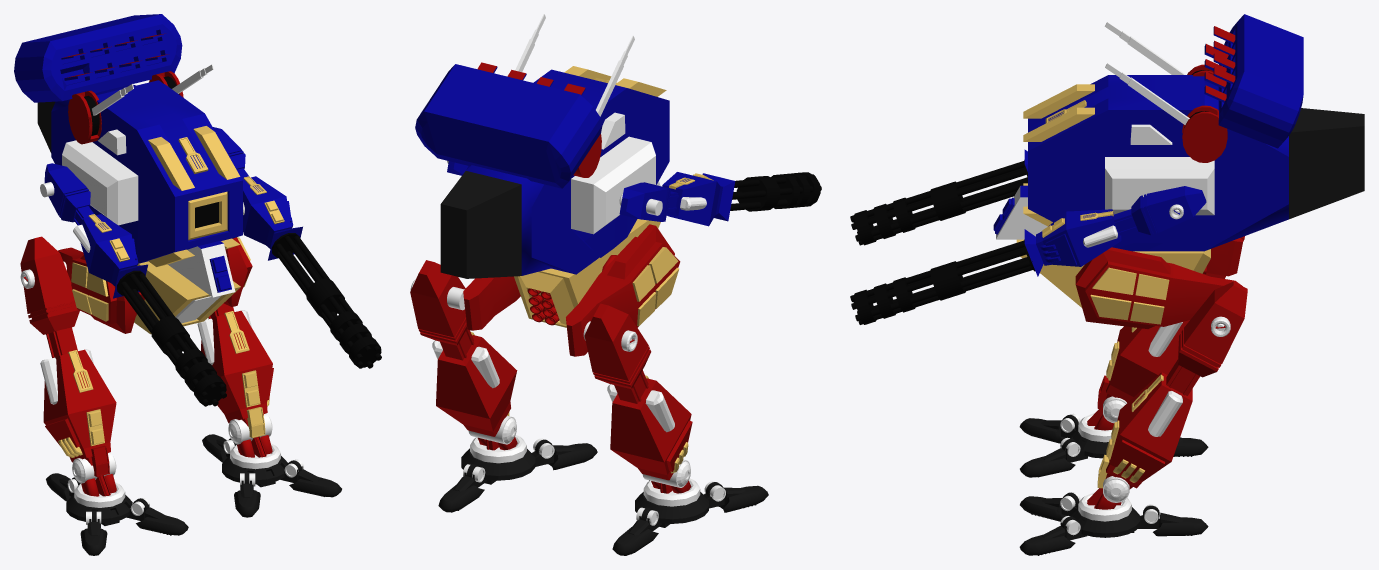
File: ccc.fbx
3 renders of one model, left to right at view 1: azimuth 30°, elevation 25°; view 2: azimuth 150°, elevation 25°; view 3: azimuth 270°, elevation 25°, orthographic. The views are drawn at different scales.
Parts seen in each view (by area): view 1: Box001, Box513, Box501, barrel_left001, barrel_left002, Box519, Box491, Box530, Box505, Cylinder002, Box500, Cylinder108 (+21 smaller); view 2: Box001, Box513, Box501, Box491, Box500, Box519, Box505, barrel_left001, Box504, Cylinder132, Cylinder108, Cylinder002 (+12 smaller); view 3: Box001, Box513, Box491, Box530, Box504, barrel_left002, barrel_left001, Box501, Cylinder003, Box505, Cylinder132, Box500 (+11 smaller).
Boxes of the visible parts, left/top/right/bottom form: Box001: left=37, top=80, right=242, bottom=297; Box513: left=14, top=14, right=182, bottom=102; Box501: left=20, top=236, right=116, bottom=465; barrel_left001: left=117, top=270, right=226, bottom=406; barrel_left002: left=271, top=233, right=381, bottom=368; Box519: left=44, top=163, right=147, bottom=298; Box491: left=201, top=303, right=273, bottom=426; Box530: left=213, top=127, right=302, bottom=260; Box505: left=134, top=261, right=240, bottom=334; Cylinder002: left=68, top=84, right=133, bottom=144; Box500: left=58, top=247, right=143, bottom=333; Cylinder108: left=66, top=494, right=132, bottom=523; Box001: left=440, top=66, right=669, bottom=278; Box513: left=415, top=62, right=602, bottom=188; Box501: left=584, top=303, right=692, bottom=480; Box491: left=410, top=260, right=517, bottom=436; Box500: left=566, top=224, right=680, bottom=356; Box519: left=619, top=172, right=735, bottom=226; Box505: left=514, top=219, right=660, bottom=327; barrel_left001: left=730, top=172, right=821, bottom=211; Box504: left=463, top=276, right=520, bottom=330; Cylinder132: left=461, top=448, right=535, bottom=480; Cylinder108: left=635, top=492, right=708, bottom=523; Cylinder002: left=573, top=35, right=634, bottom=177; Box001: left=996, top=75, right=1364, bottom=251; Box513: left=1204, top=14, right=1303, bottom=148; Box491: left=1105, top=281, right=1247, bottom=489; Box530: left=1024, top=186, right=1206, bottom=276; Box504: left=1075, top=247, right=1242, bottom=328; barrel_left002: left=850, top=239, right=1035, bottom=324; barrel_left001: left=850, top=160, right=1027, bottom=245; Box501: left=1105, top=236, right=1244, bottom=402; Cylinder003: left=1105, top=63, right=1227, bottom=162; Box505: left=1016, top=239, right=1210, bottom=307; Cylinder132: left=1070, top=507, right=1140, bottom=537; Box500: left=1206, top=238, right=1242, bottom=276.
Bounding box in the file's own units: 83.01 × 133 × 138.
